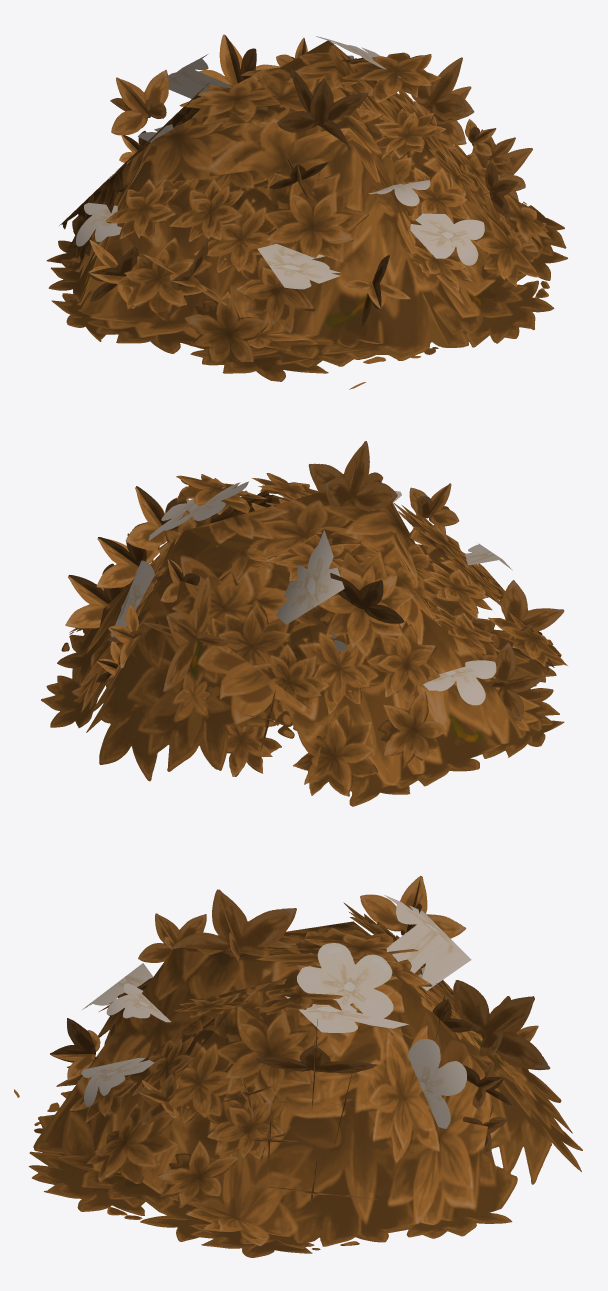
Rendered from 2_Arbusto_Cafe_LOD_1.fbx.
The picture shows the model from 3 angles, top to bottom: view 1: azimuth 30°, elevation 25°; view 2: azimuth 150°, elevation 25°; view 3: azimuth 270°, elevation 25°; orthographic projection. The views are drawn at different scales.
Visible parts, largest first — view 1: 2_Arbusto_Cafe_LOD_1; view 2: 2_Arbusto_Cafe_LOD_1; view 3: 2_Arbusto_Cafe_LOD_1.
Boxes of the visible parts, x1,y1,x2,y2 form: 2_Arbusto_Cafe_LOD_1: (46,34,567,389); 2_Arbusto_Cafe_LOD_1: (41,441,567,806); 2_Arbusto_Cafe_LOD_1: (14,876,582,1257).
Bounding box in the file's own units: 354 × 193 × 340.
